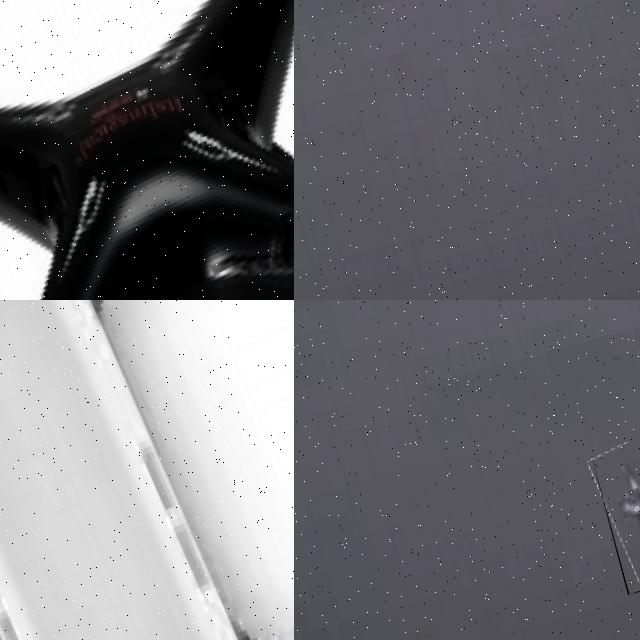drone: (0, 300, 294, 640), (0, 0, 294, 300), (589, 426, 640, 594)
